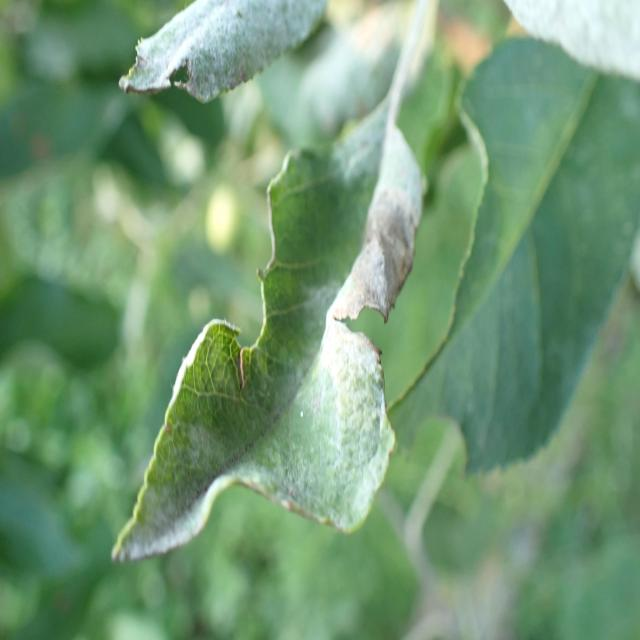Powdery_mildew: (86, 113, 434, 570), (105, 0, 378, 95)
